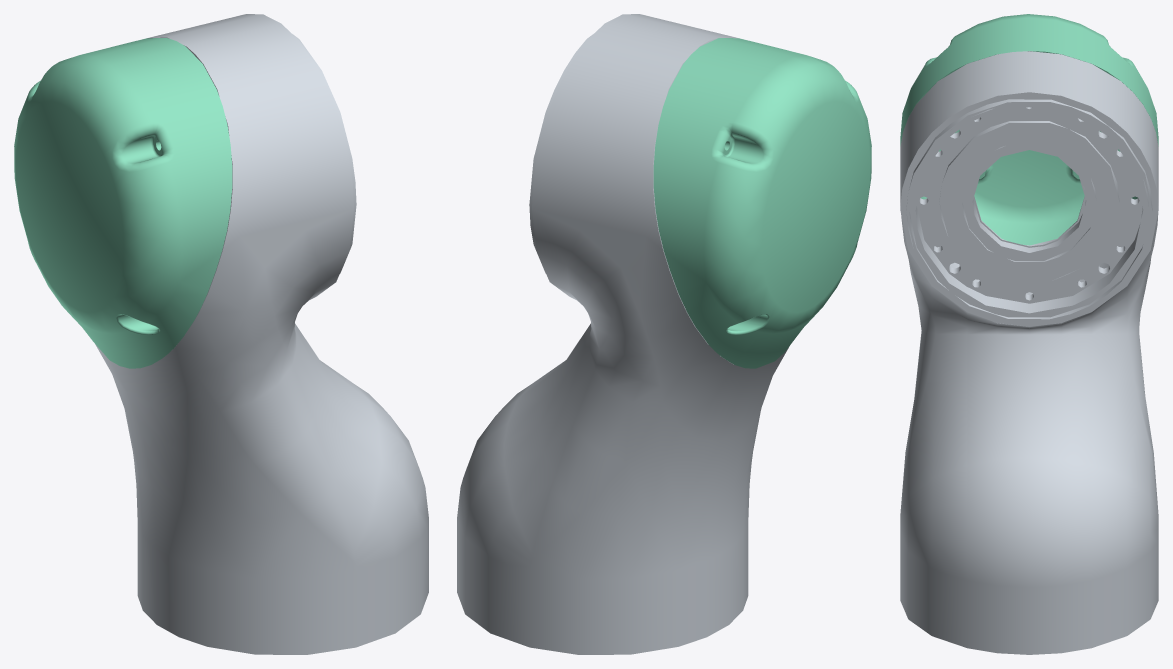
Rendered from coro_7_link1.dae.
The picture shows the model from 3 angles, left to right: view 1: azimuth 30°, elevation 25°; view 2: azimuth 150°, elevation 25°; view 3: azimuth 270°, elevation 25°; orthographic projection. The views are drawn at different scales.
Visible parts, largest first — view 1: __002; view 2: __002; view 3: __002.
Boxes of the visible parts, x1,y1,x2,y2 form: __002: (14, 14, 428, 654); __002: (457, 14, 871, 654); __002: (900, 14, 1158, 654).
Bounding box in the file's own units: 0.1727 × 0.125 × 0.2705.
